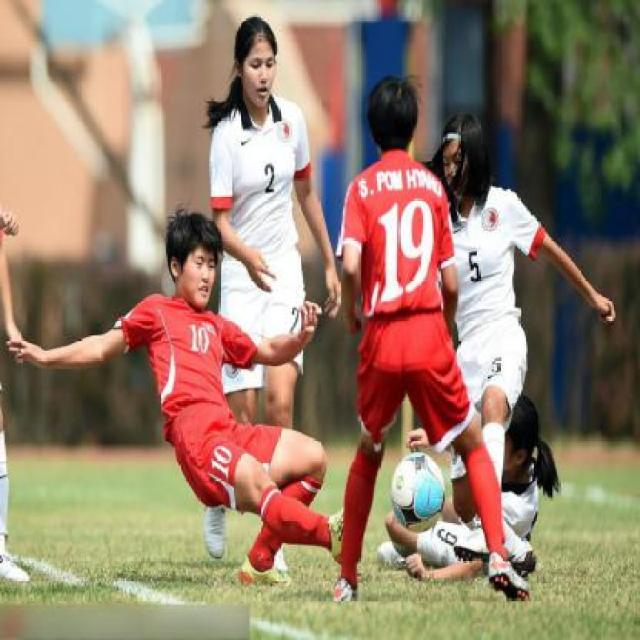Person: (209, 11, 302, 332), (577, 158, 578, 159)
